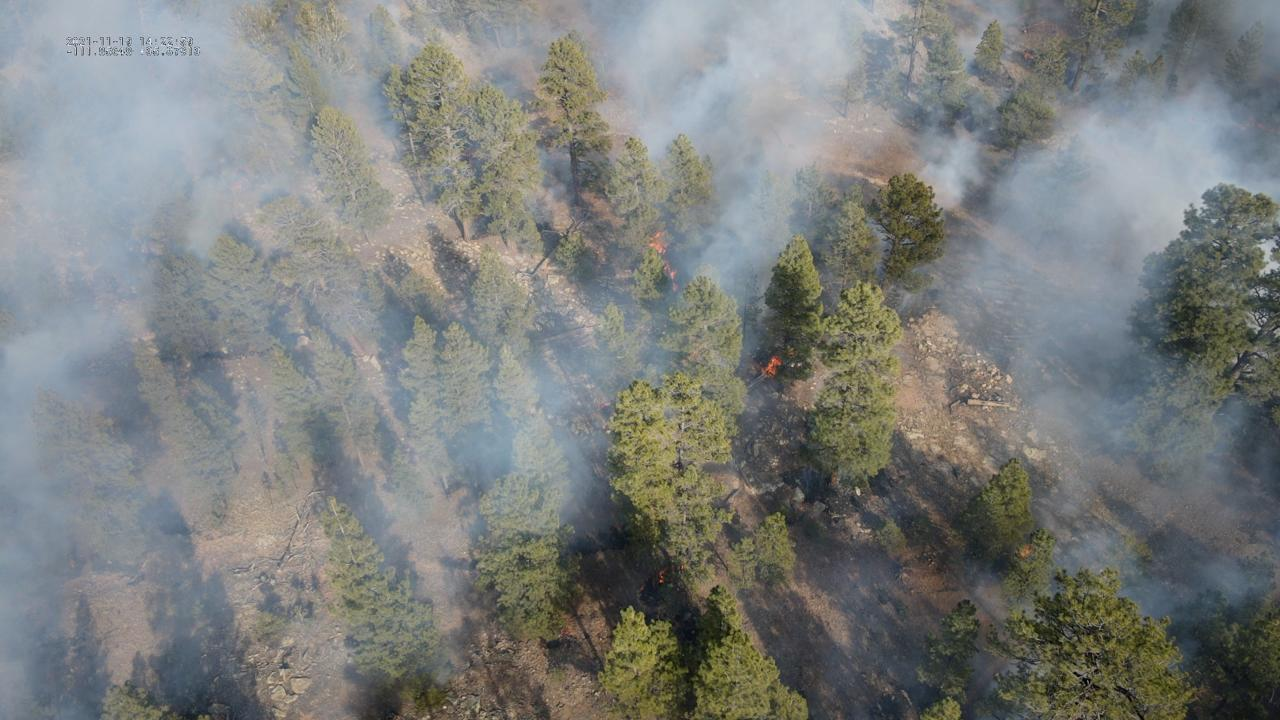fire: (646, 231, 680, 296), (1245, 115, 1280, 135), (758, 354, 783, 379), (1018, 544, 1029, 560), (656, 571, 666, 585), (637, 581, 645, 595)
smoke: (0, 0, 1280, 720)
